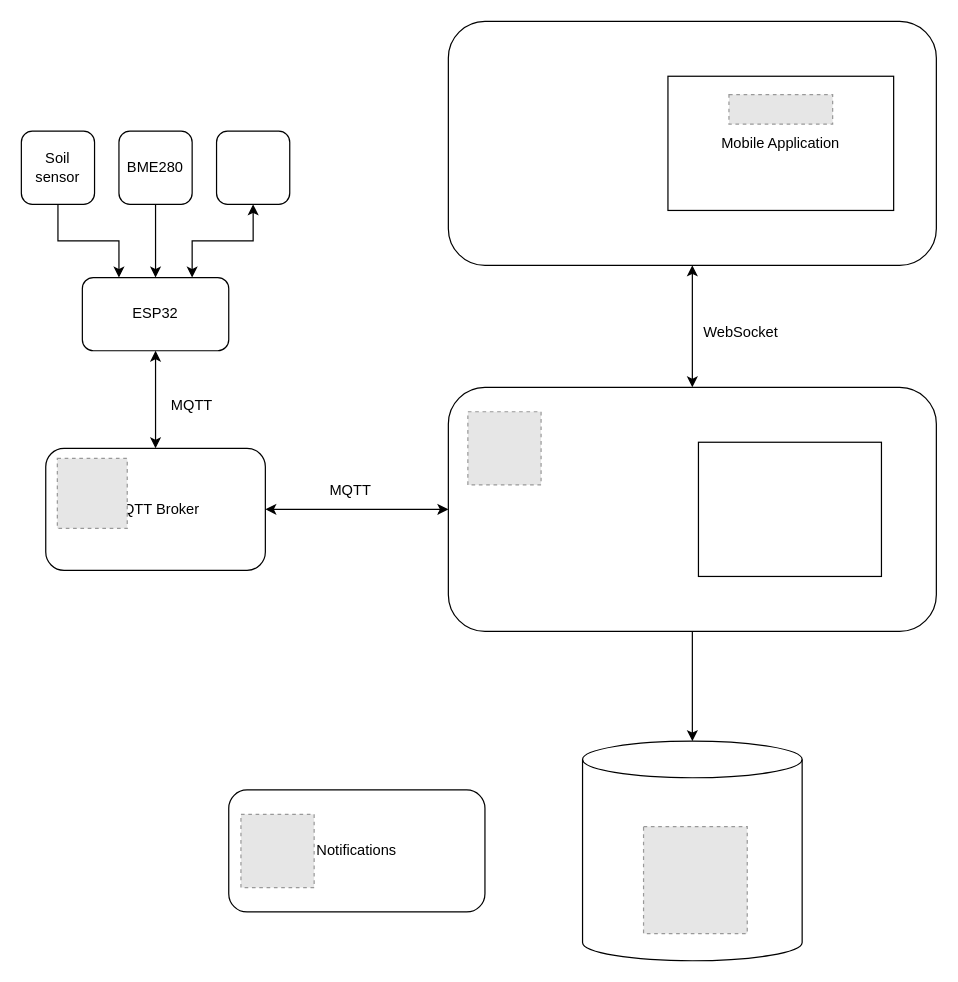
This 958x982 diagram has some shape labels left out. Grey dashed boxes stand in for pictures. The shapes that lost their labels are listed below. From the top down, each one's centre as x and y in pixels, then its label:
the point at 252,167: LCD Screen
the point at 789,508: WebSocket API
